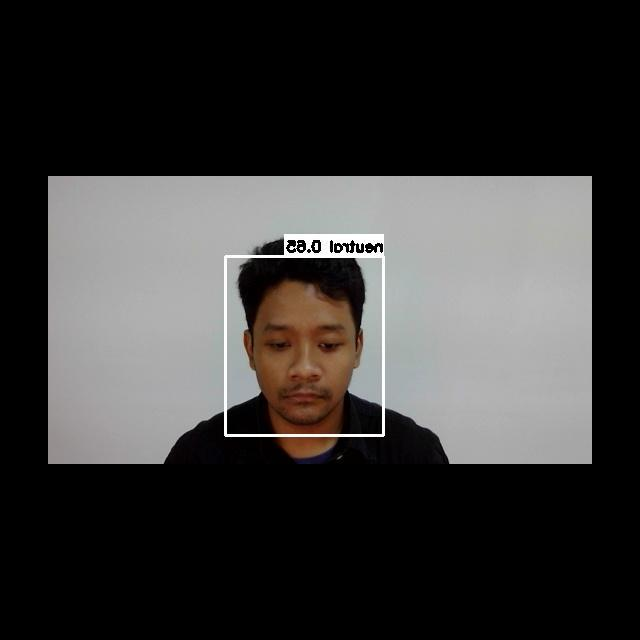Natural: (258, 310, 354, 412)
